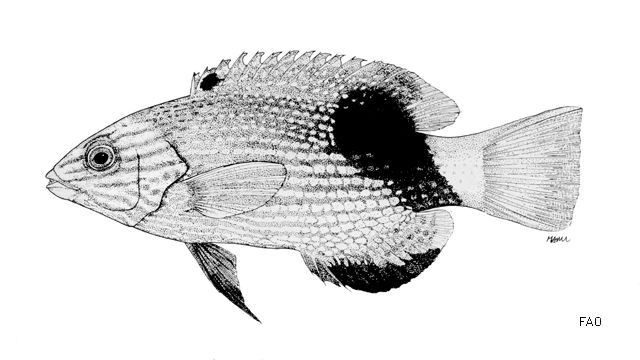fish: (45, 50, 583, 325)
